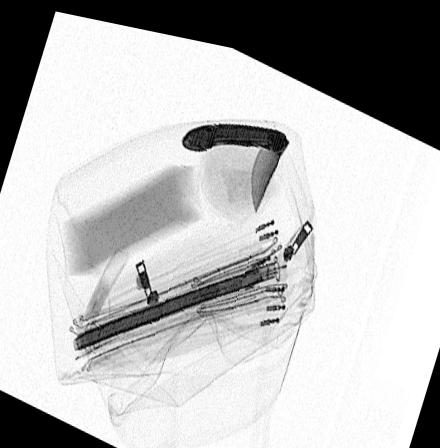Knife: (179, 111, 292, 205)
